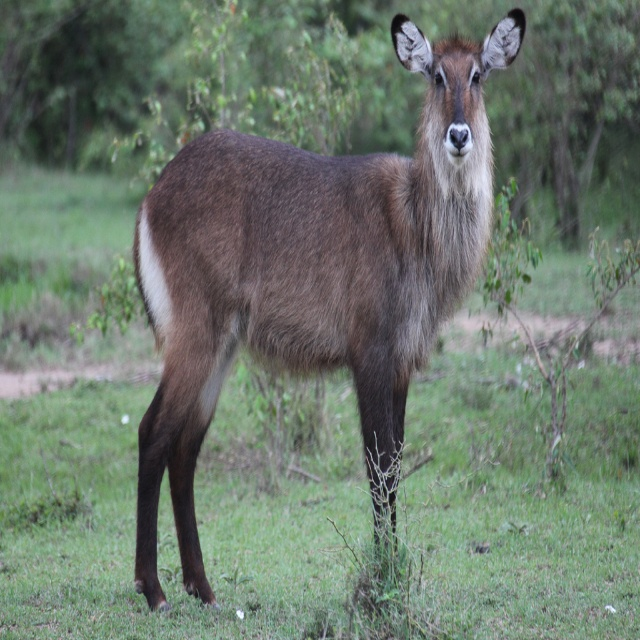Deer: (133, 7, 526, 616)
